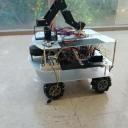cart: (28, 28, 120, 100)
